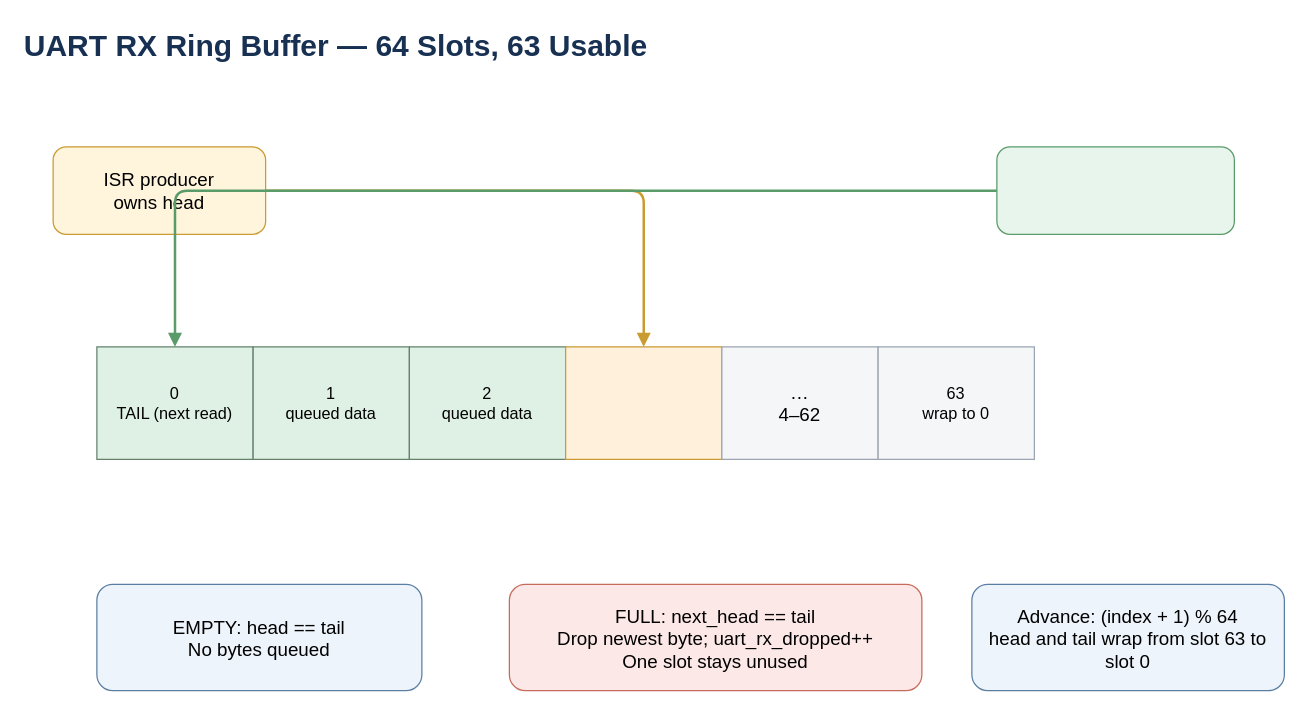
This 1306x713 diagram has some shape labels left out. The shapes that lost their labels are listed below. From the top down, each one's centre as x and y in pixels, then its label:
the point at 1115,190: Main-loop consumer owns tail
the point at 643,402: 3 HEAD (next write)
